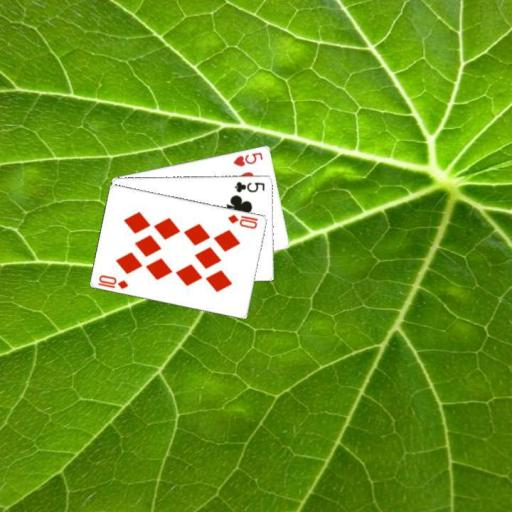10D: (225, 211, 260, 230), (95, 272, 130, 290)
5C: (232, 179, 266, 194)
5H: (231, 149, 265, 168)
